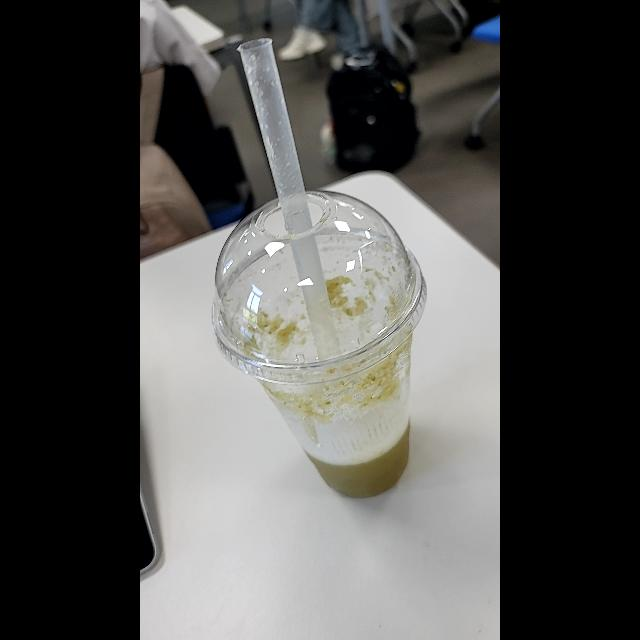plastic_cup: (208, 187, 430, 503)
plastic_cup_lid: (207, 186, 441, 390)
straw: (234, 44, 356, 360)
